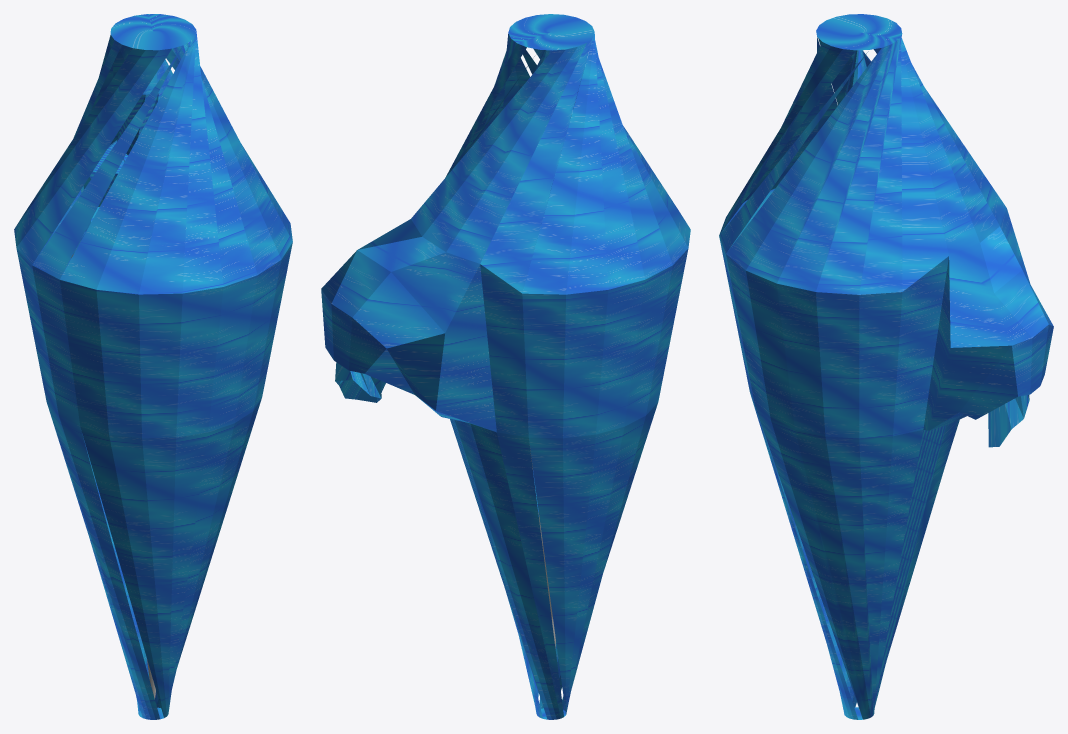
Rendered from EmptyVoidRoom.fbx.
The picture shows the model from 3 angles, left to right: view 1: azimuth 30°, elevation 25°; view 2: azimuth 150°, elevation 25°; view 3: azimuth 270°, elevation 25°; orthographic projection.
Parts seen in each view (by area): view 1: ViewBlocker, EmptyVoidRoom; view 2: ViewBlocker, EmptyVoidRoom; view 3: ViewBlocker, EmptyVoidRoom.
Boxes of the visible parts, x1,y1,x2,y2 form: ViewBlocker: (14,14,292,719); EmptyVoidRoom: (71,59,172,698); ViewBlocker: (321,14,690,719); EmptyVoidRoom: (335,50,568,648); ViewBlocker: (719,14,1053,719); EmptyVoidRoom: (844,50,1029,709).
Bounding box in the file's own units: 46.15 × 109 × 48.61.
